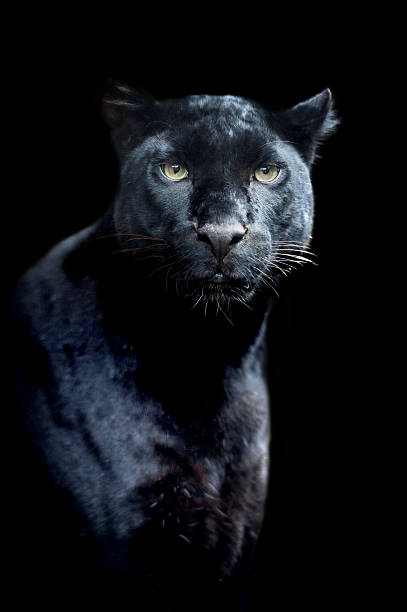panther: (59, 53, 380, 375)
